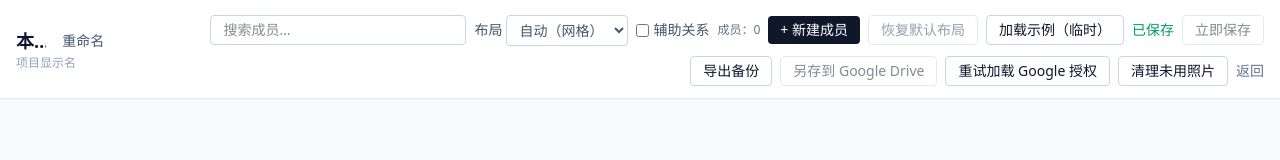
Test: TreeView row order integration › retries loading Google authorization without opening a popup: success
The width and height of the screenshot is (1280, 160).
Expected: the button with test id "copy-to-drive" is disabled, top-left (780, 56), bottom-right (938, 86)
Click the button with test id "retry-drive-preparation". click: (1028, 71)
box: top-left (946, 56), bottom-right (1110, 86)
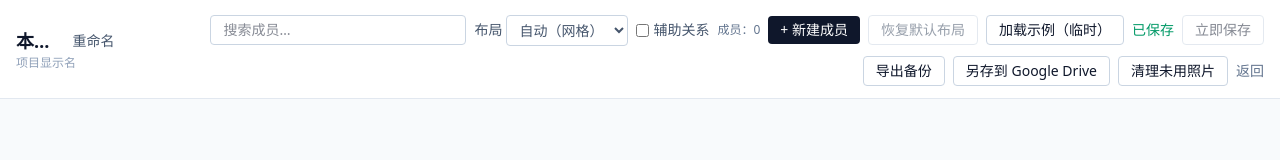
Expected: the button with test id "copy-to-drive" is enabled, top-left (953, 56), bottom-right (1110, 86)
